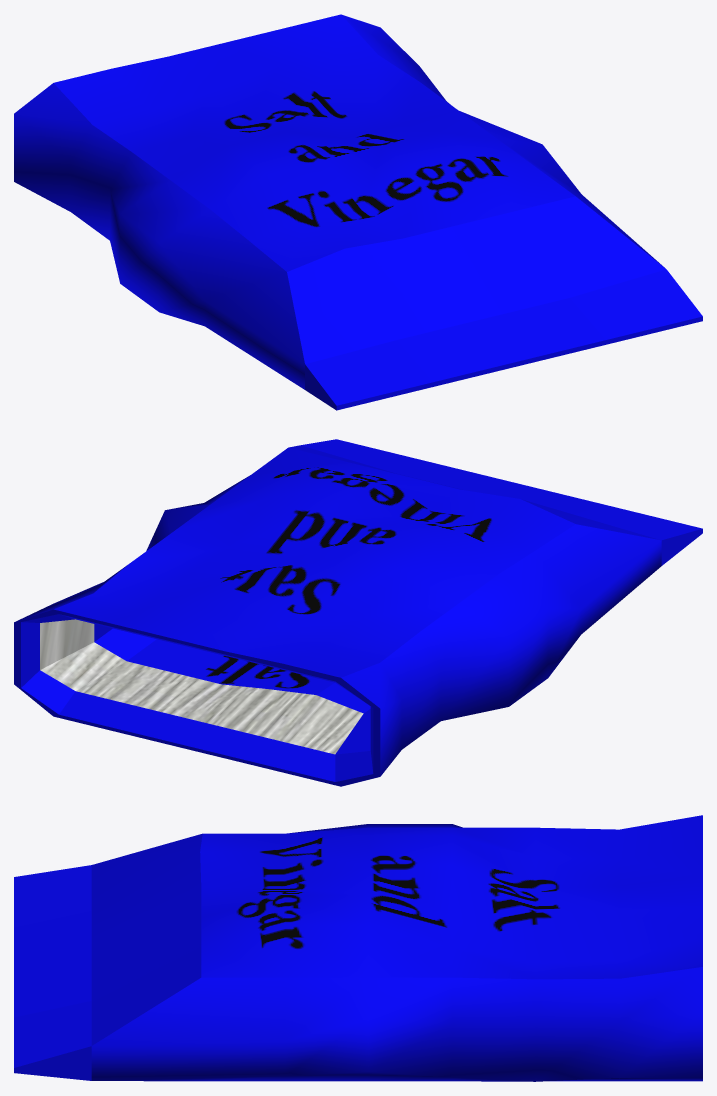
The model's file is Crisps Blue.fbx.
3 views of the same model, one above another, from view 1: azimuth 30°, elevation 25°; view 2: azimuth 150°, elevation 25°; view 3: azimuth 270°, elevation 25° (orthographic). The views are drawn at different scales.
Parts seen in each view (by area): view 1: pCube14; view 2: pCube14; view 3: pCube14.
Part boxes in pixels (left/top/right/bottom): pCube14: left=14, top=14, right=702, bottom=410; pCube14: left=14, top=439, right=702, bottom=786; pCube14: left=14, top=815, right=702, bottom=1081.
Size of the model in its own units: 26.32 by 7.75 by 38.37.
2 materials, 2 textured.
